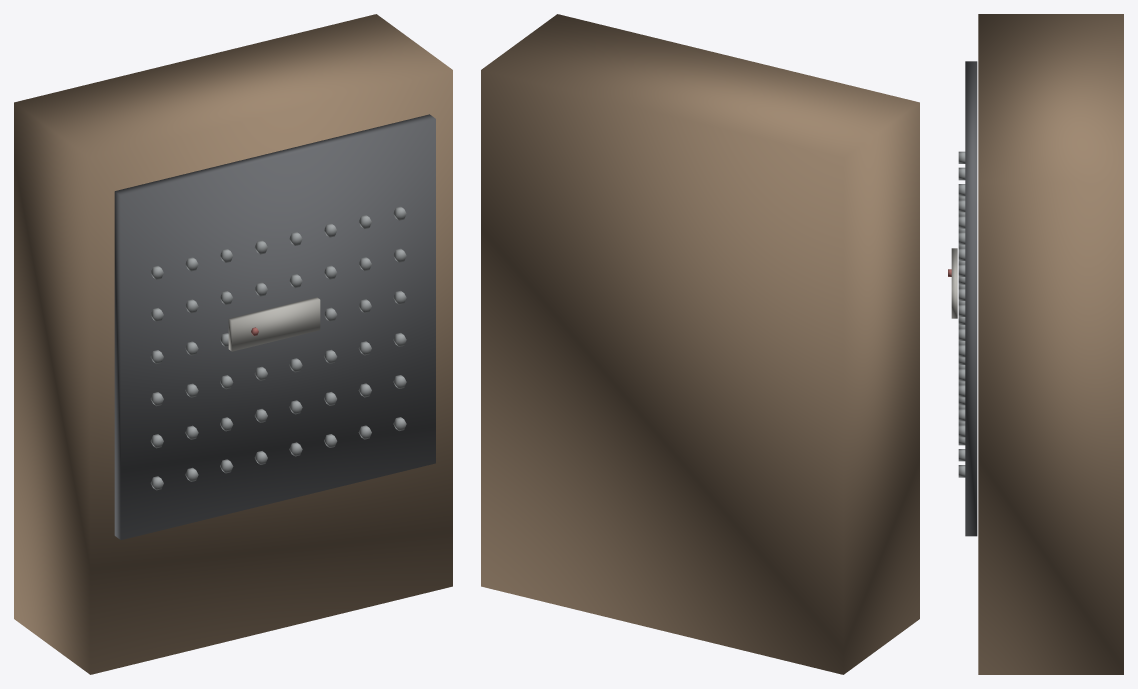
The model's file is telephone_switchboard__tall.glb.
3 views of the same model, side by side, from view 1: azimuth 30°, elevation 25°; view 2: azimuth 150°, elevation 25°; view 3: azimuth 270°, elevation 25° (orthographic). The views are drawn at different scales.
Parts seen in each view (by area): view 1: world; view 2: world; view 3: world.
Part boxes in pixels (box(x1,y1,x2,y2)): world: box(14, 14, 452, 674); world: box(481, 14, 919, 674); world: box(948, 14, 1123, 674).
Size of the model in its own units: 1.15 by 1.57 by 0.507.
